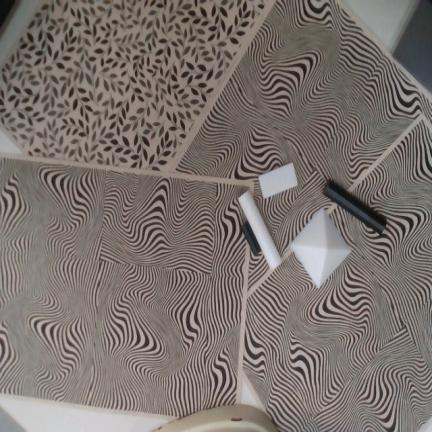Cilindro: (238, 189, 281, 269), (324, 180, 387, 233), (241, 220, 262, 255)
Paralelepipedo: (258, 162, 298, 199)
Piramide: (290, 207, 353, 288)
